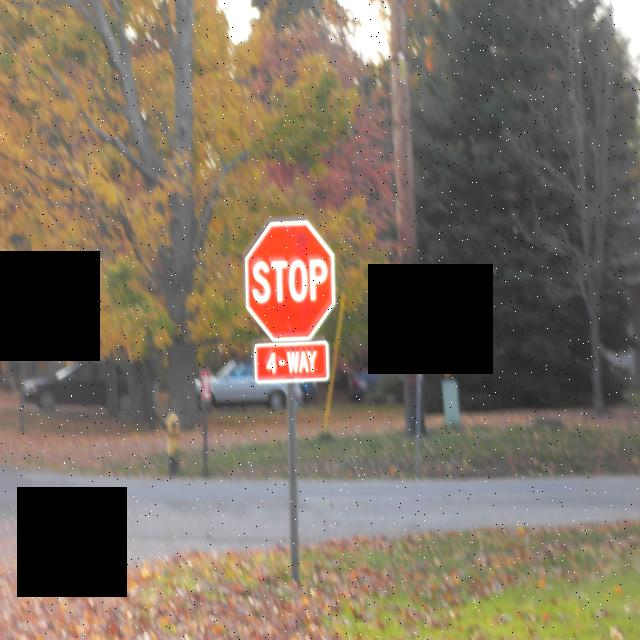stop: (241, 217, 341, 346)
